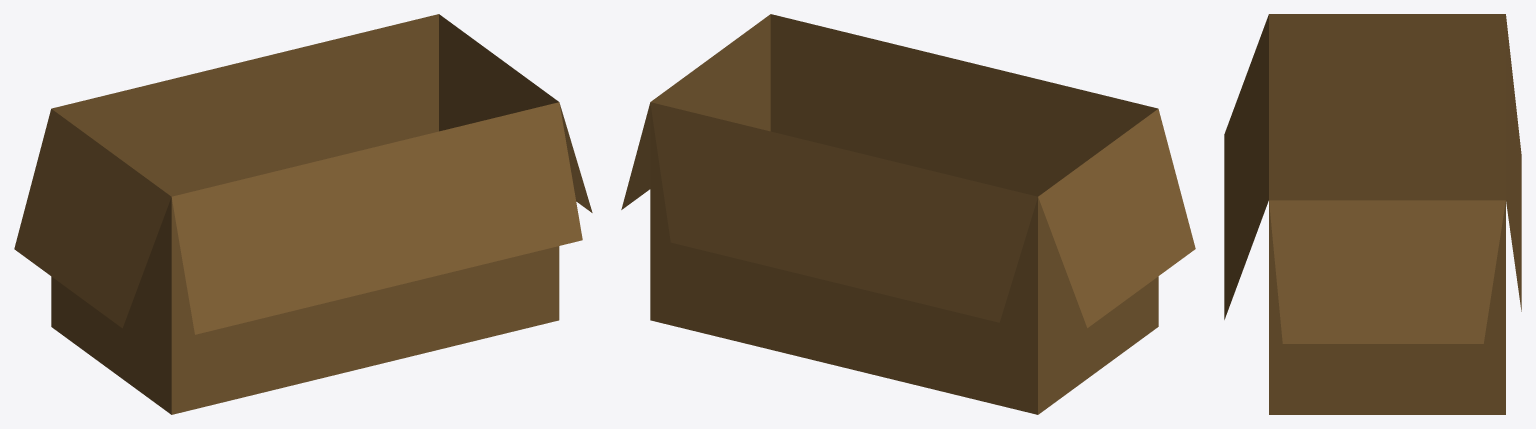
The model's file is Caixa2.fbx.
The picture shows the model from 3 angles, left to right: view 1: azimuth 30°, elevation 25°; view 2: azimuth 150°, elevation 25°; view 3: azimuth 270°, elevation 25°; orthographic projection.
Visible parts, largest first — view 1: Cube.073; view 2: Cube.073; view 3: Cube.073.
Boxes of the visible parts, x1,y1,x2,y2 form: Cube.073: [14, 14, 592, 414]; Cube.073: [621, 14, 1195, 414]; Cube.073: [1224, 14, 1521, 414].
Size of the model in its own units: 590 by 261 by 327.
